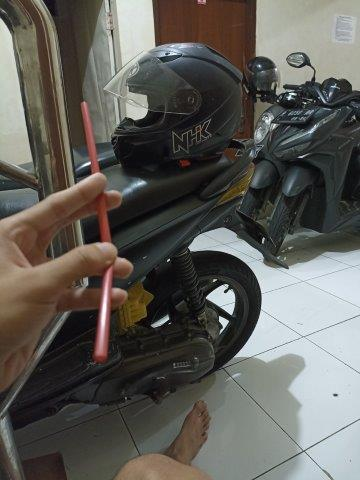sedotan: (79, 101, 112, 357)
